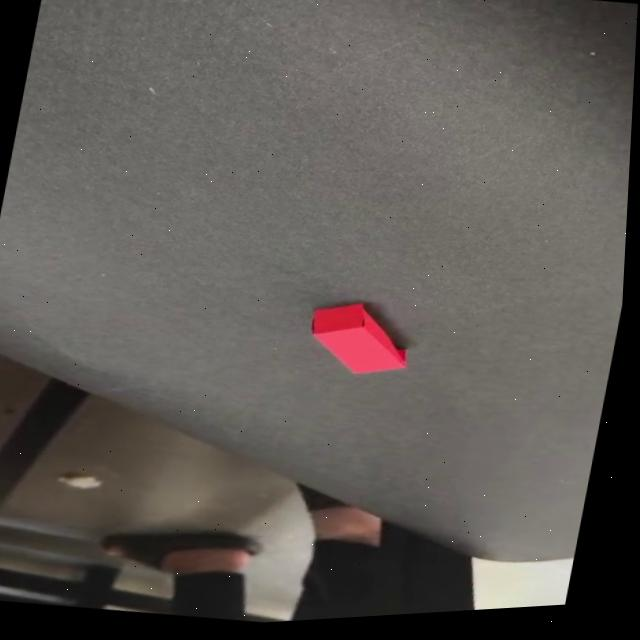red block: (299, 293, 417, 386)
